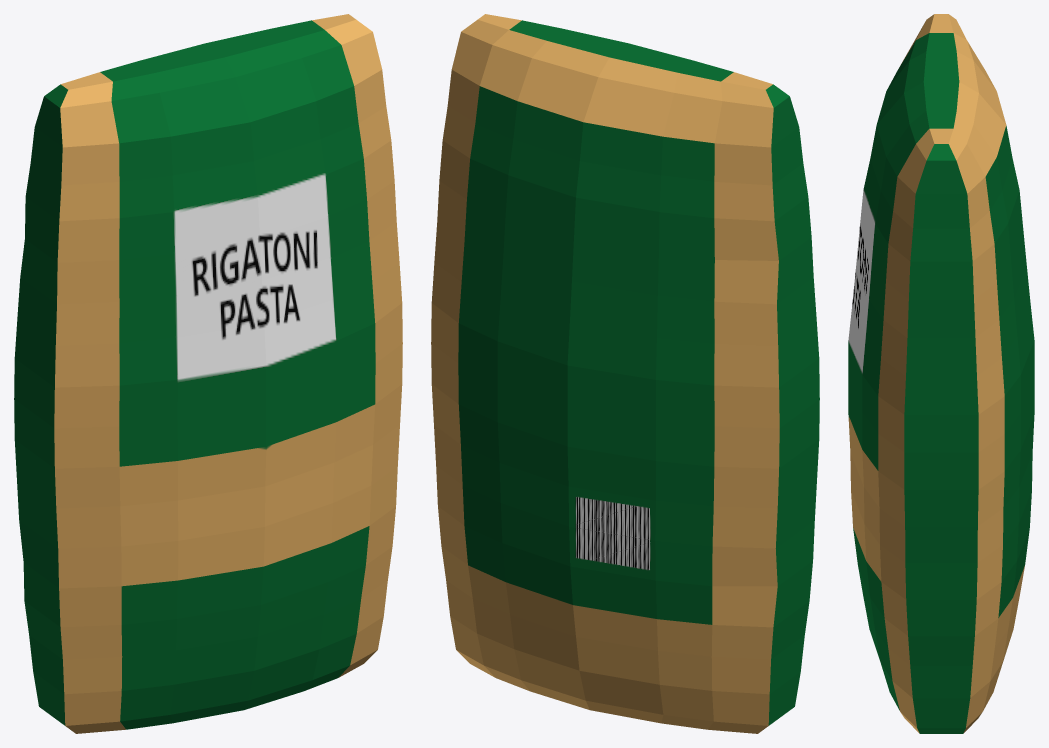
The model's file is rigatoni_pasta.glb.
The picture shows the model from 3 angles, left to right: view 1: azimuth 30°, elevation 25°; view 2: azimuth 150°, elevation 25°; view 3: azimuth 270°, elevation 25°; orthographic projection. The views are drawn at different scales.
Visible parts, largest first — view 1: Cube; view 2: Cube; view 3: Cube.
Part boxes in pixels (bbox=[...]): Cube: bbox=[14, 14, 402, 733]; Cube: bbox=[431, 14, 819, 733]; Cube: bbox=[848, 14, 1034, 733].
Size of the model in its own units: 0.2 by 0.35 by 0.1.
1 material, 1 textured.
